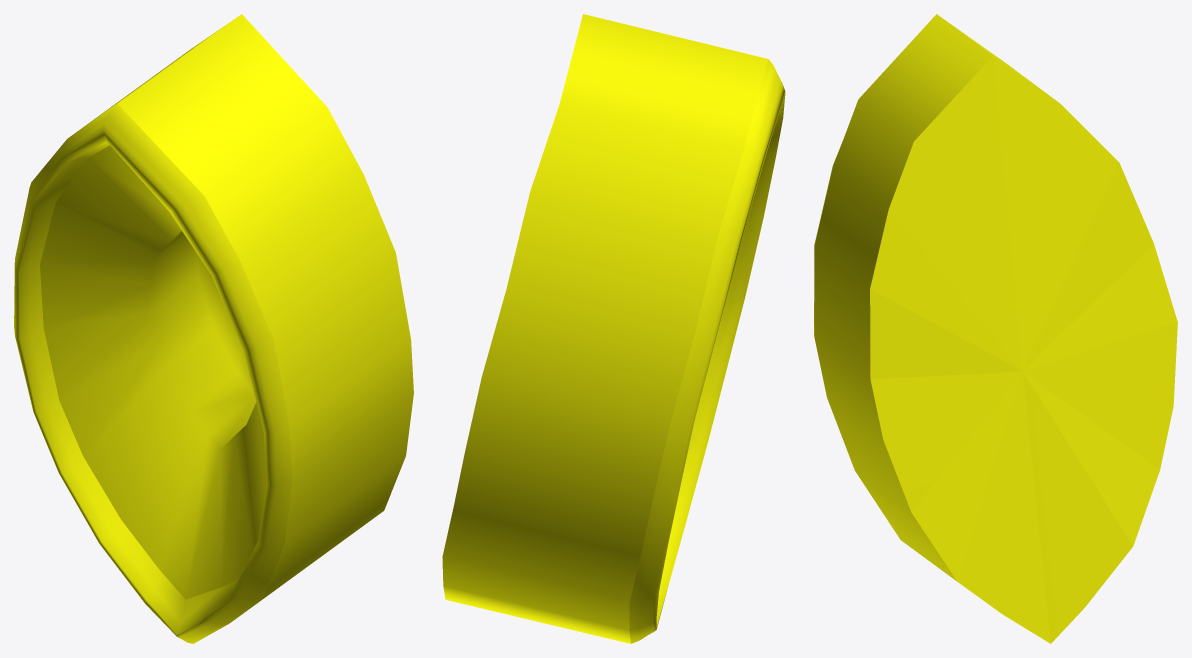
The model's file is TL5_8shapes_Marquise_Classic_Metal.001 3.glb.
The picture shows the model from 3 angles, left to right: view 1: azimuth 30°, elevation 25°; view 2: azimuth 150°, elevation 25°; view 3: azimuth 270°, elevation 25°; orthographic projection. The views are drawn at different scales.
Parts seen in each view (by area): view 1: TL5_8shapes_Marquise_Classic_Metal.001; view 2: TL5_8shapes_Marquise_Classic_Metal.001; view 3: TL5_8shapes_Marquise_Classic_Metal.001.
Part boxes in pixels (box(x1,y1,x2,y2)): TL5_8shapes_Marquise_Classic_Metal.001: box(14, 14, 413, 643); TL5_8shapes_Marquise_Classic_Metal.001: box(442, 14, 785, 643); TL5_8shapes_Marquise_Classic_Metal.001: box(814, 14, 1177, 643).
Bounding box in the file's own units: 0.3573 × 0.6888 × 0.4002.
